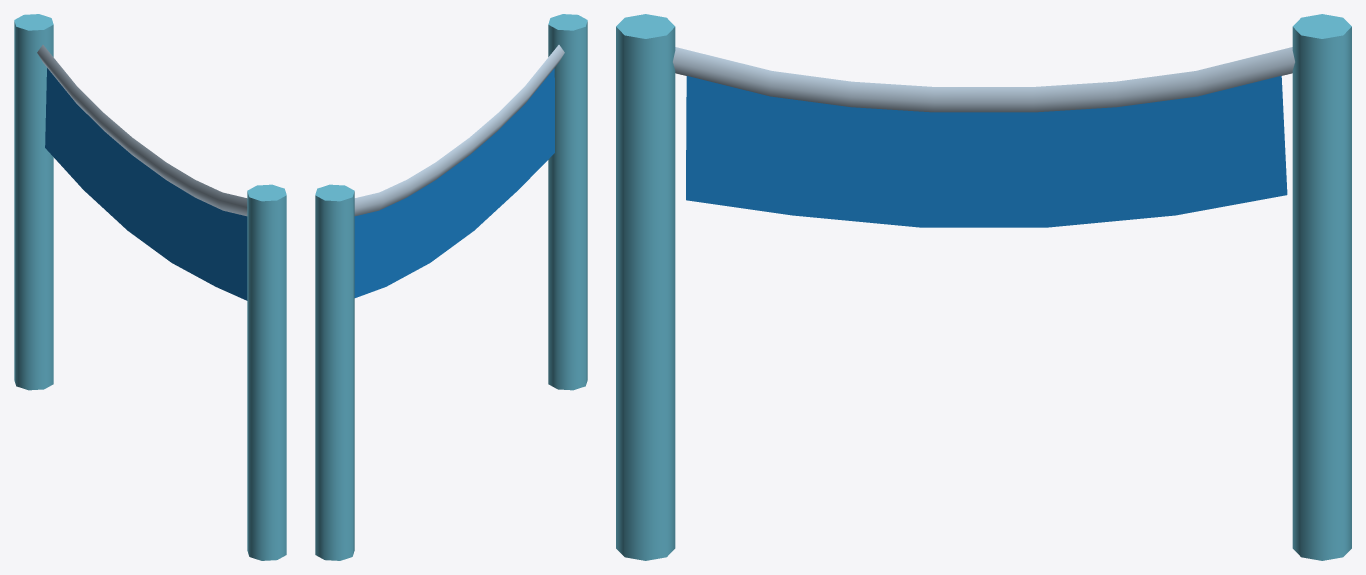
File: flags02_s03.FBX
3 views of the same model, side by side, from view 1: azimuth 30°, elevation 25°; view 2: azimuth 150°, elevation 25°; view 3: azimuth 270°, elevation 25° (orthographic). The views are drawn at different scales.
Visible parts, largest first — view 1: flags02_s03; view 2: flags02_s03; view 3: flags02_s03.
Part boxes in pixels (box(x1,y1,x2,y2)): flags02_s03: box(14, 14, 286, 560); flags02_s03: box(315, 14, 587, 560); flags02_s03: box(616, 14, 1351, 560).
Bounding box in the file's own units: 35 × 434 × 339.
1 material, 1 textured.
